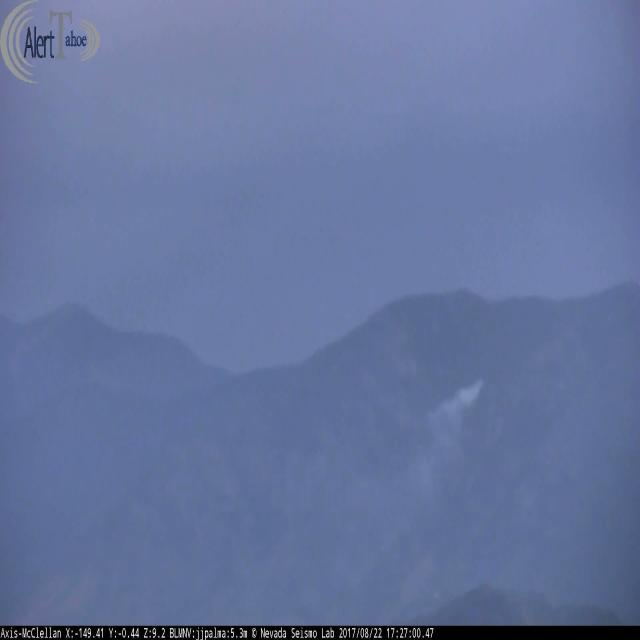smoke: (431, 373, 483, 435)
